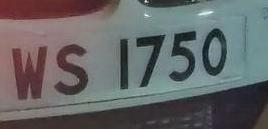0: (197, 22, 233, 81)
1: (113, 32, 137, 97)
5: (167, 26, 201, 86)
7: (132, 30, 172, 90)
S: (50, 36, 95, 101)
W: (8, 37, 51, 108)
